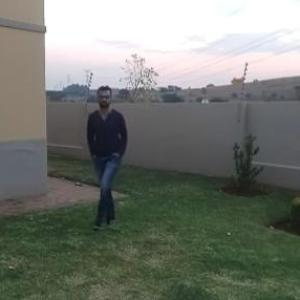follow: (83, 84, 128, 216)
